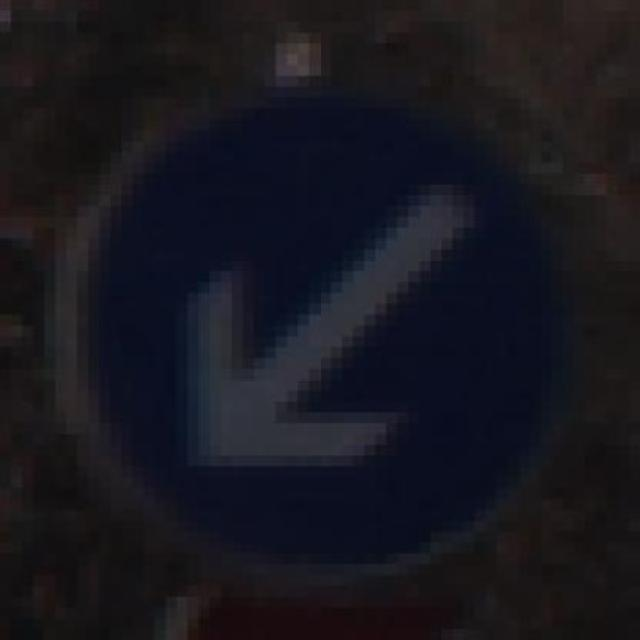Keep-Left: (55, 54, 596, 608)
